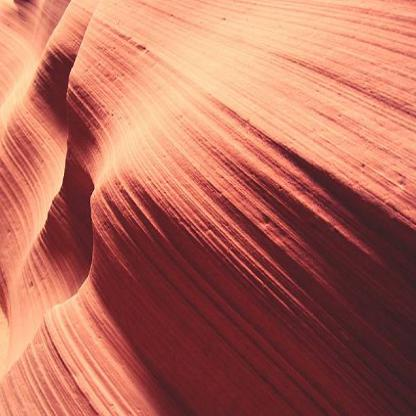Sedimentary_Sandstone: (229, 2, 415, 415), (82, 171, 228, 413)
